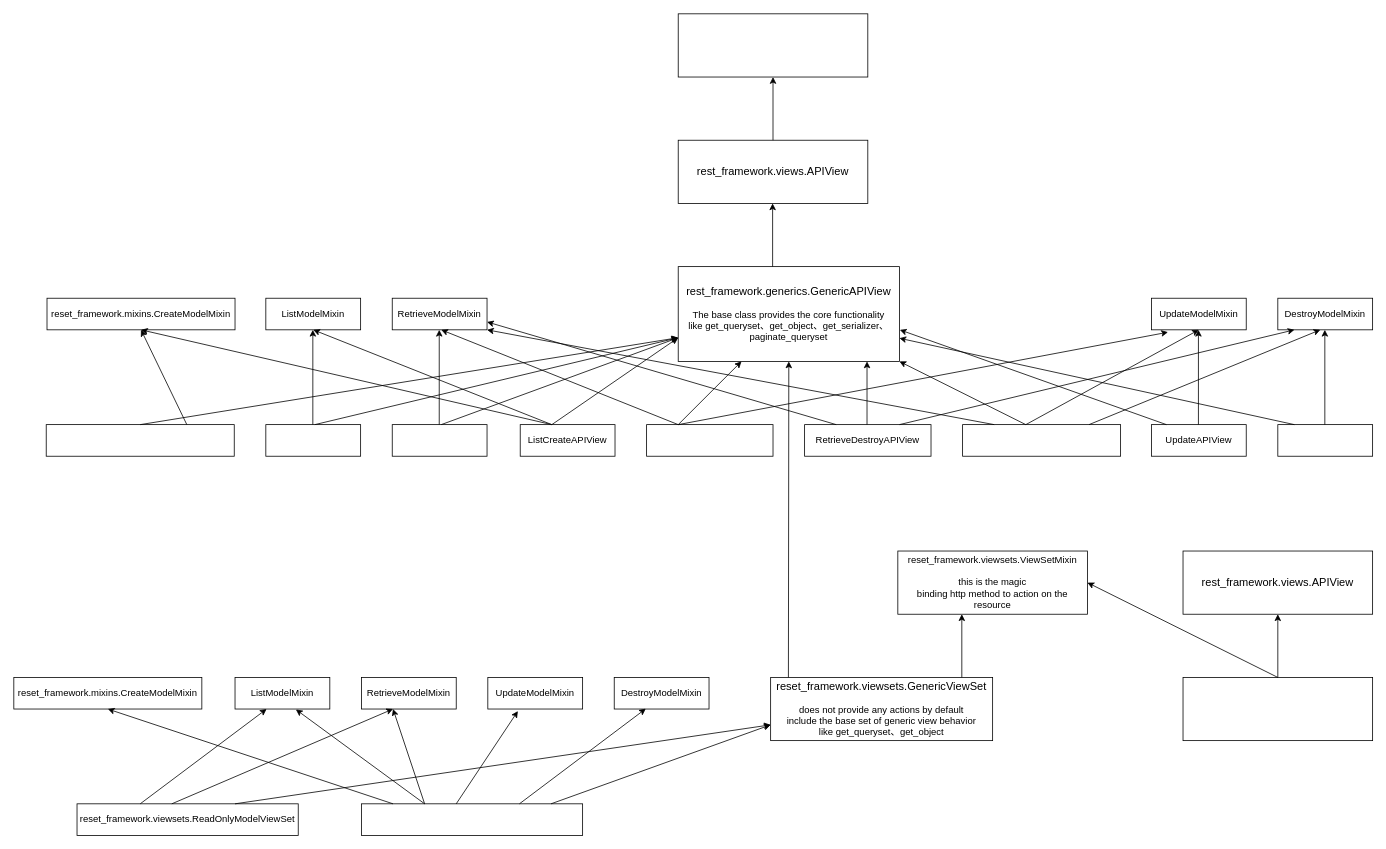
Image size: 1386x849. Some labels were removed from this diagram. The box of each missing label's shape, as (x1, y1, x2, y2) in pixels:
DestroyAPIView: (1277, 424, 1373, 456)
django.views.generic.base.View: (677, 13, 868, 77)
ListAPIView: (265, 424, 361, 456)
reset_framework.viewsets.ModelViewSet: (361, 803, 583, 835)
reset_framework.viewsets.ViewSet does not provide any actions by default: (1182, 677, 1373, 741)
rest_framework.generics.CreateAPIView: (45, 424, 234, 456)
RetrieveAPIView: (391, 424, 487, 456)
RetrieveUpdateAPIView: (646, 424, 773, 456)
RetrieveUpdateDestroyAPIView: (962, 424, 1121, 456)
